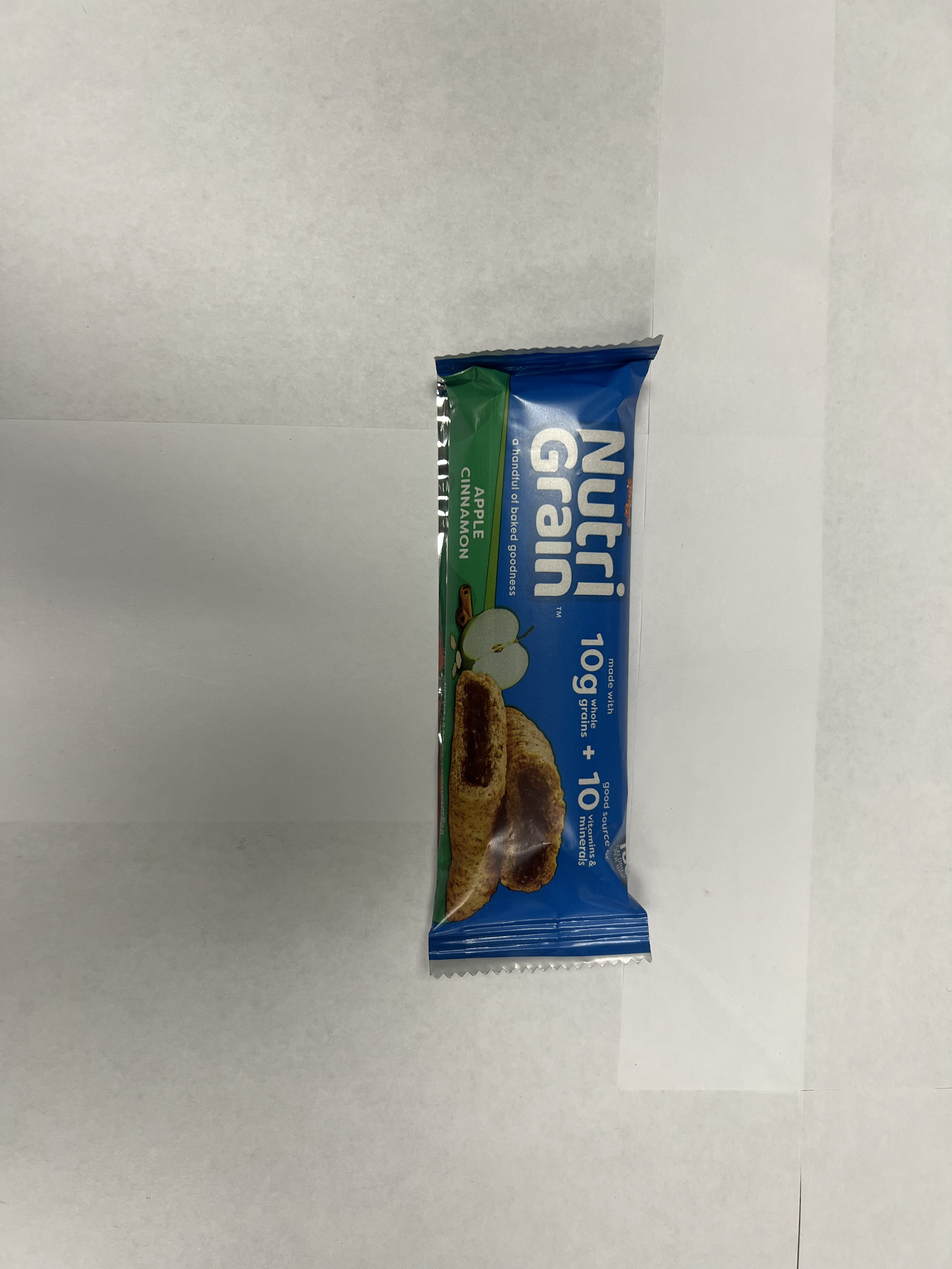packaged: (422, 333, 666, 980)
